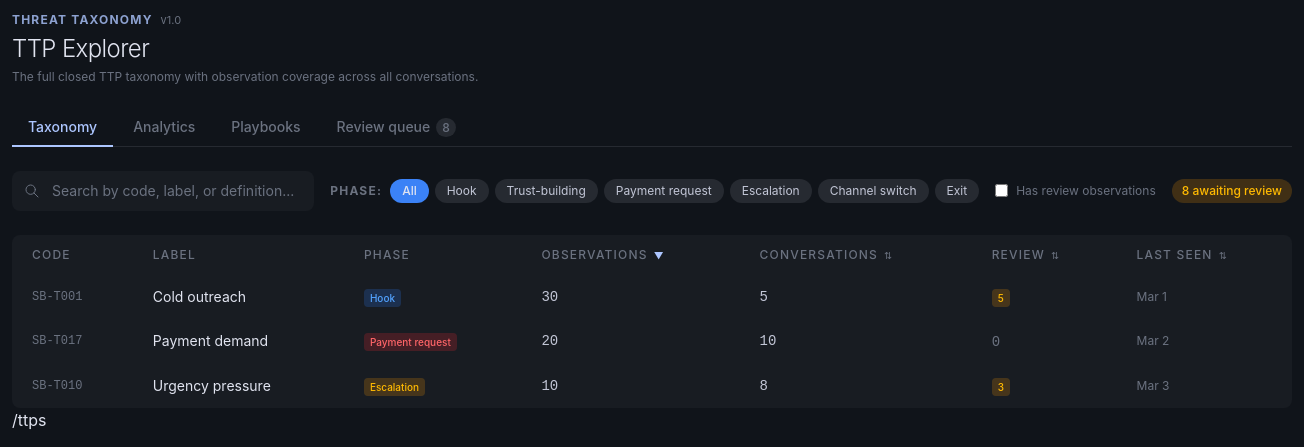
Test case: TtpExplorer — coverage gaps › splits the playbooks matrix, sequences and phase-transitions into sub-tabs
The width and height of the screenshot is (1304, 447).
Check: the text "Cold outreach" is shown, box left=133, top=274, right=344, bottom=319
Click the button with test id "ttp-tab-playbooks" at (266, 128), box left=215, top=108, right=317, bottom=146
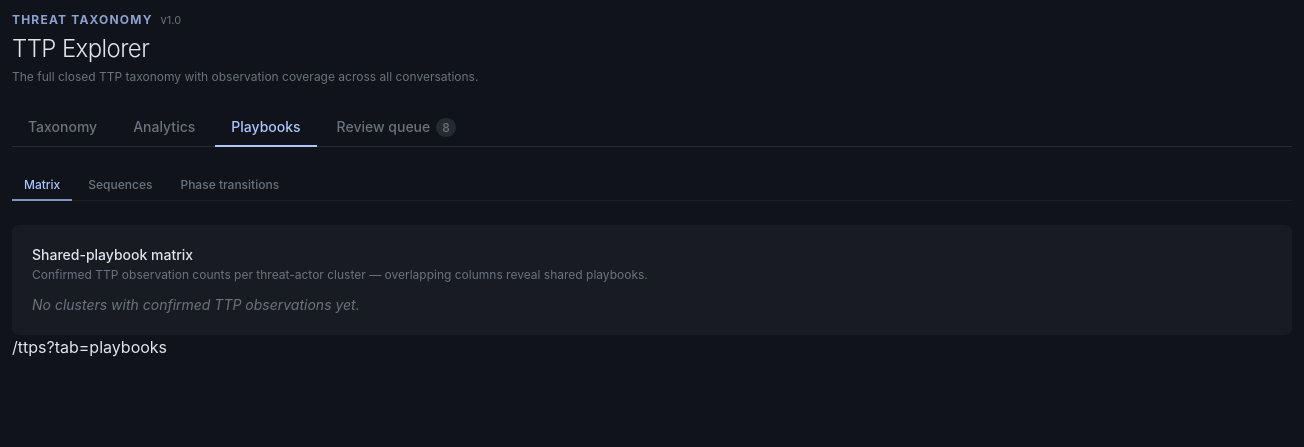
Check: the heading "Shared-playbook matrix" is shown, box left=32, top=246, right=193, bottom=262
Check: the text with test id "location-probe" reads "/ttps?tab=playbooks", box left=12, top=336, right=167, bottom=356
Click the button with test id "ttp-subtab-sequences" at (120, 186), box left=76, top=170, right=164, bottom=200
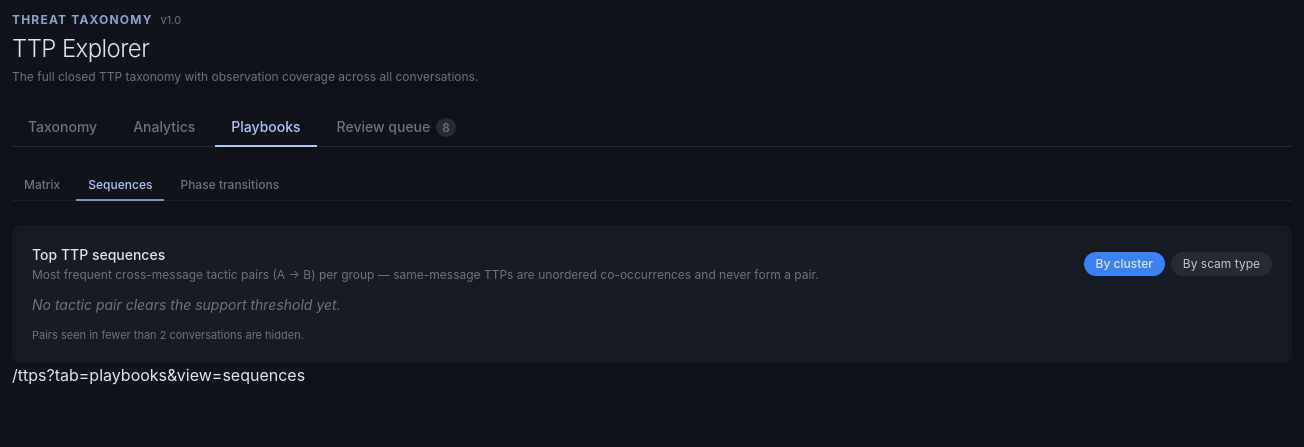
Check: the element with test id "ttp-sequences" is shown, box left=12, top=224, right=1292, bottom=363
Check: the text with test id "location-probe" reads "/ttps?tab=playbooks&view=sequences", box left=12, top=365, right=305, bottom=385
Check: the element with test id "cluster-ttp-matrix" is gone
# Phase-transitions sub-tab mounts the transitions matrix.
Click the button with test id "ttp-subtab-phases" at (230, 186), box left=168, top=170, right=291, bottom=200
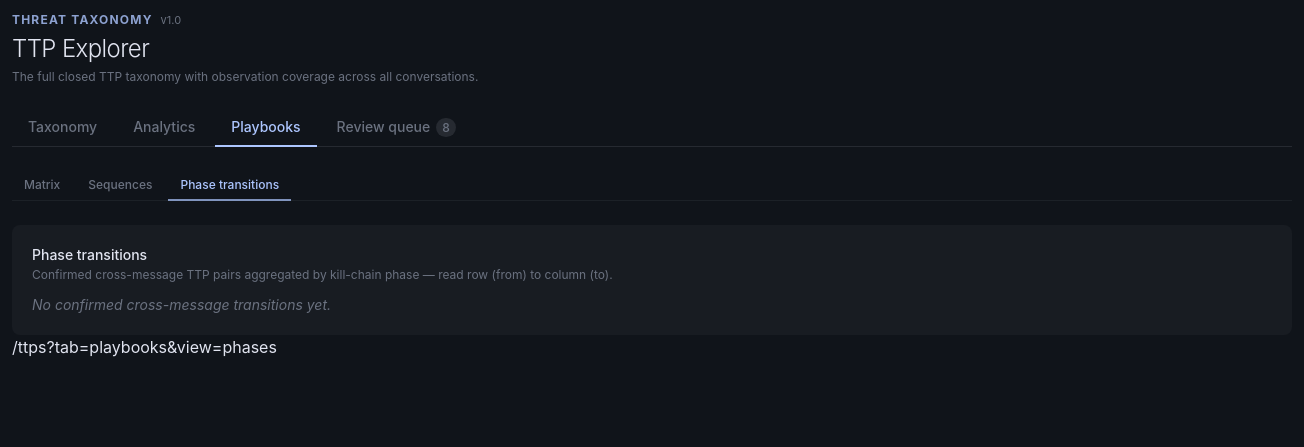
Check: the element with test id "ttp-phase-transitions" is shown, box left=12, top=224, right=1292, bottom=334
Check: the text with test id "location-probe" reads "/ttps?tab=playbooks&view=phases", box left=12, top=336, right=277, bottom=356
Check: the element with test id "ttp-sequences" is gone
